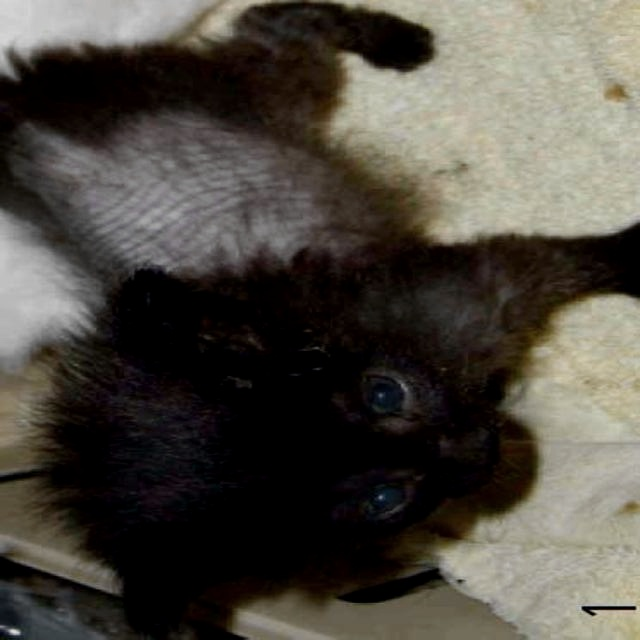hairloss: (56, 119, 356, 279)
